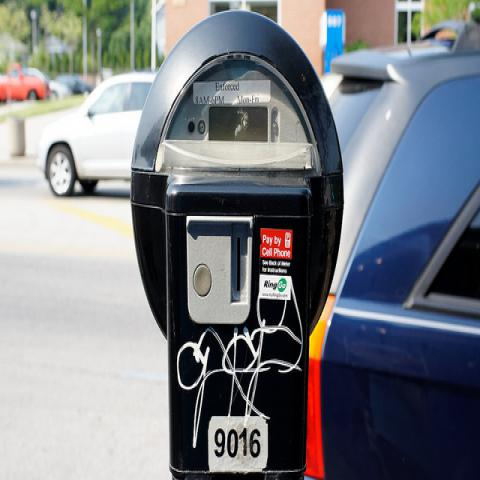car: (306, 16, 479, 475), (25, 74, 155, 196), (1, 64, 51, 103), (21, 68, 73, 102), (53, 73, 93, 94)
truck: (0, 62, 50, 102)
